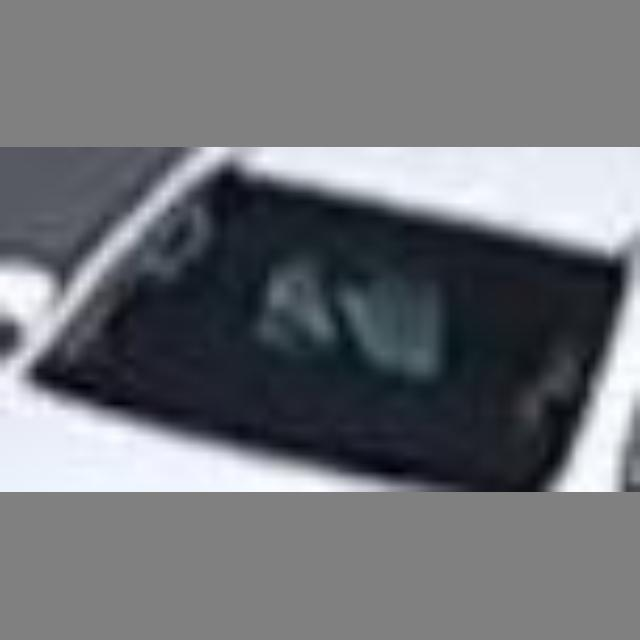pakai: (236, 206, 429, 408)
